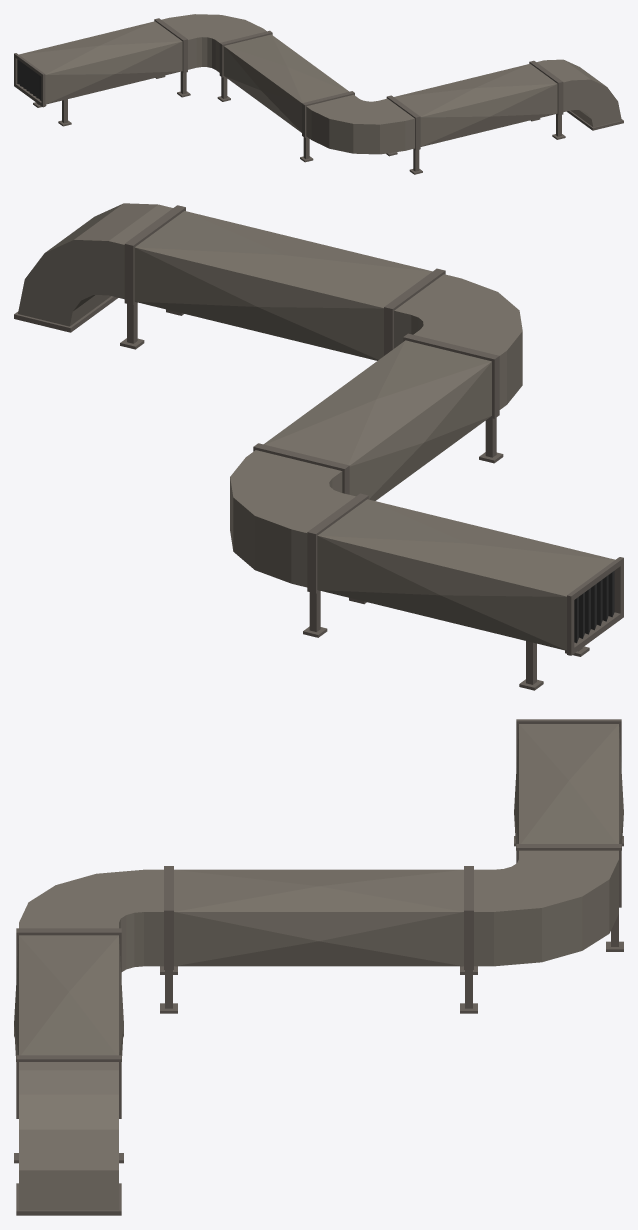
File: SM_Props_Roof_Vent_Set_01.fbx
3 views of the same model, one above another, from view 1: azimuth 30°, elevation 25°; view 2: azimuth 150°, elevation 25°; view 3: azimuth 270°, elevation 25° (orthographic). The views are drawn at different scales.
Parts seen in each view (by area): view 1: SM_Props_Roof_Vent_Set_01; view 2: SM_Props_Roof_Vent_Set_01; view 3: SM_Props_Roof_Vent_Set_01.
Part boxes in pixels (x1,y1,x2,y2): SM_Props_Roof_Vent_Set_01: (14,14,623,174); SM_Props_Roof_Vent_Set_01: (14,203,623,690); SM_Props_Roof_Vent_Set_01: (14,719,623,1215).
Bounding box in the file's own units: 933 × 115 × 610.
